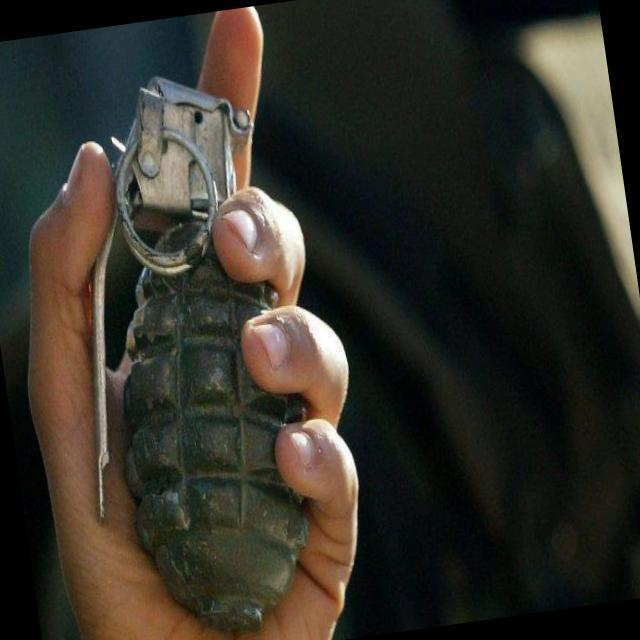grenade: (36, 59, 342, 640)
